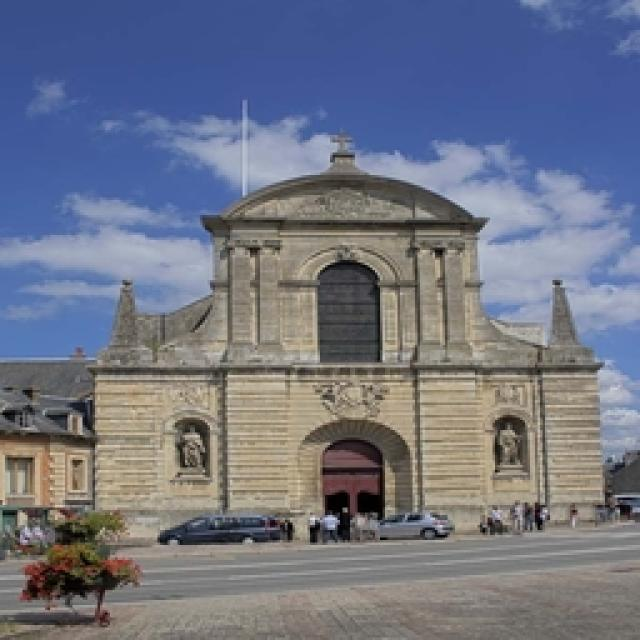Abbey: (83, 126, 611, 538)
